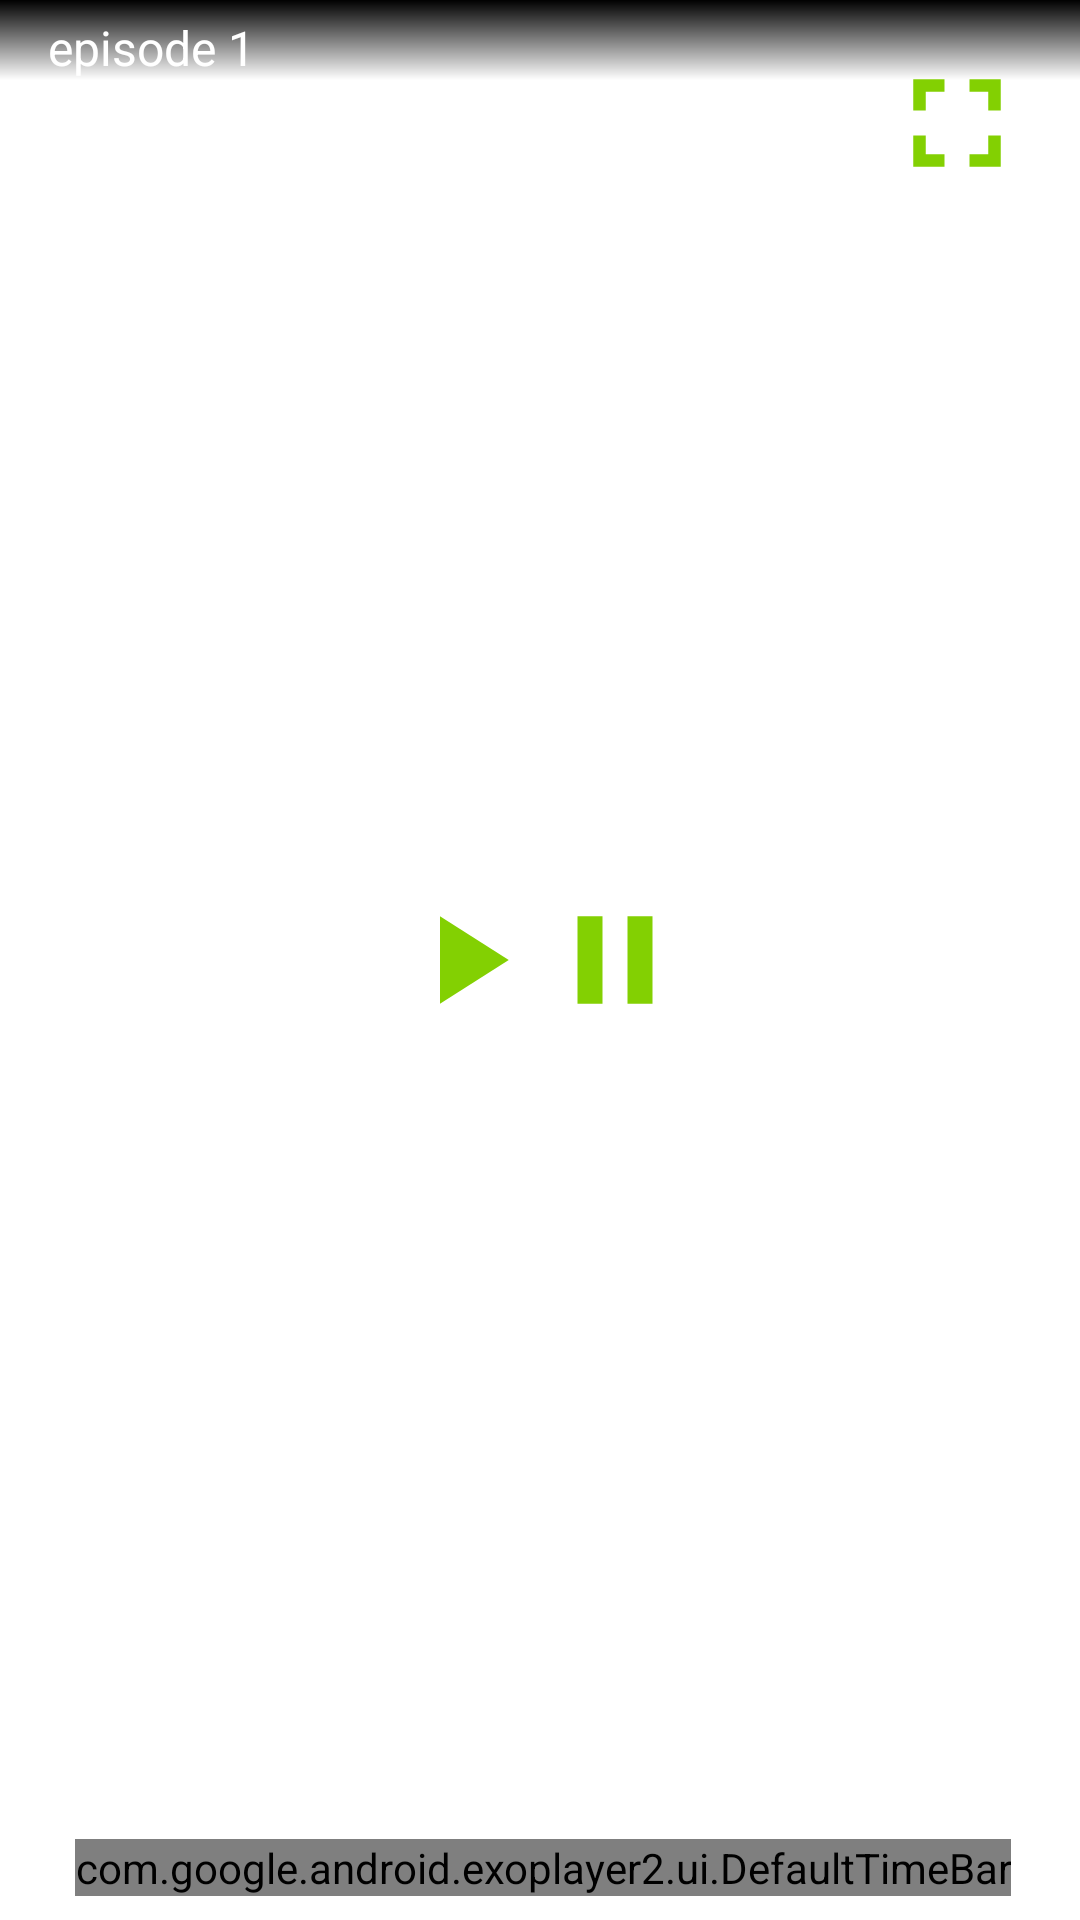

Point at icon controls on the screen. Image size 1080*1920, points as (x,y).
enter full screen: (957,107)
pause: (615,960)
play: (474,960)
